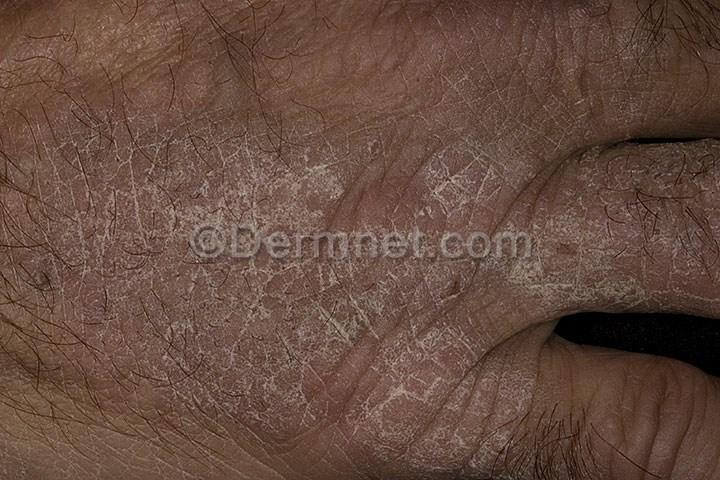Eczema: (177, 119, 297, 285), (49, 146, 183, 279), (407, 118, 526, 241), (63, 277, 173, 405), (296, 110, 398, 230), (314, 224, 430, 319), (433, 242, 536, 344), (285, 273, 357, 416), (175, 280, 278, 376), (178, 369, 280, 457), (625, 138, 720, 229), (461, 345, 541, 450), (538, 160, 640, 242), (366, 321, 446, 421), (511, 59, 597, 152), (541, 237, 643, 315), (337, 407, 438, 480), (647, 228, 720, 314), (601, 42, 669, 122), (440, 436, 538, 480)
